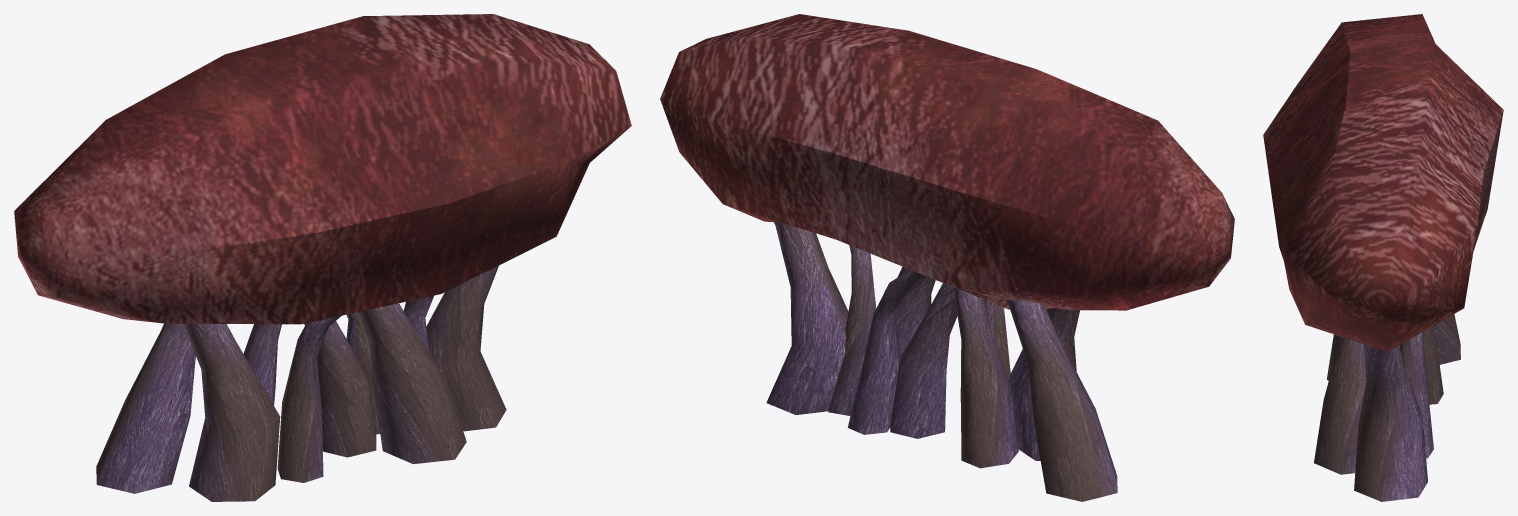
The model's file is Bush05.glb.
The picture shows the model from 3 angles, left to right: view 1: azimuth 30°, elevation 25°; view 2: azimuth 150°, elevation 25°; view 3: azimuth 270°, elevation 25°; orthographic projection. The views are drawn at different scales.
Visible parts, largest first — view 1: Bush05; view 2: Bush05; view 3: Bush05.
Part boxes in pixels (x1=…): Bush05: x1=14, y1=14, x2=631, y2=501; Bush05: x1=660, y1=14, x2=1234, y2=501; Bush05: x1=1263, y1=14, x2=1503, y2=501.
Size of the model in its own units: 2 by 1.29 by 0.7857.
Materials: 2 (2 with a texture image).
